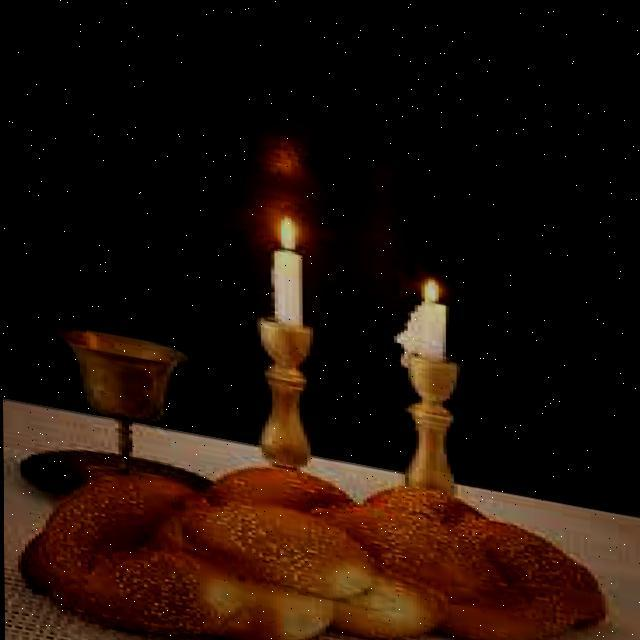Fire: (256, 200, 312, 250), (403, 252, 452, 296)
